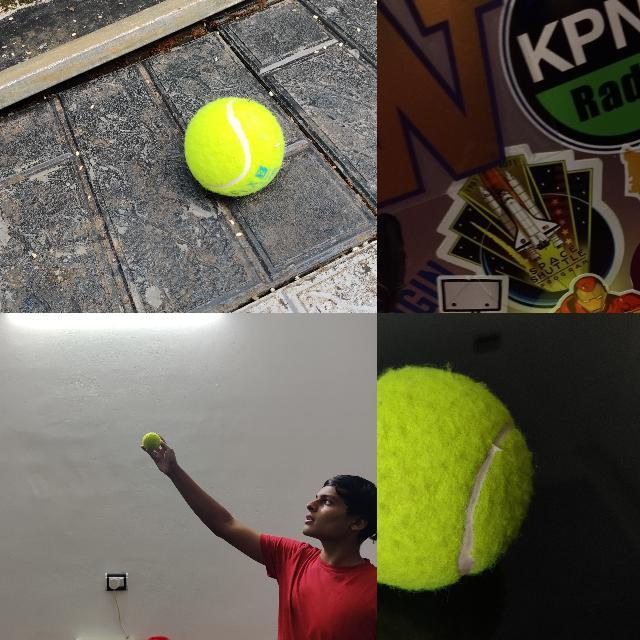tennis-ball: (377, 364, 535, 592), (185, 96, 285, 196), (142, 432, 161, 451)
